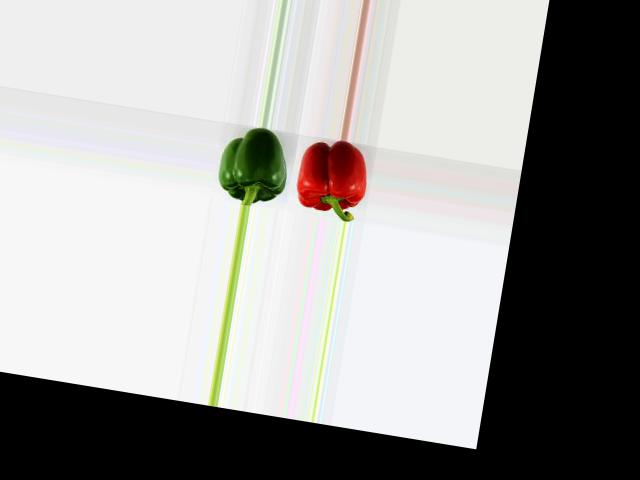bell_pepper: (212, 125, 296, 210)
